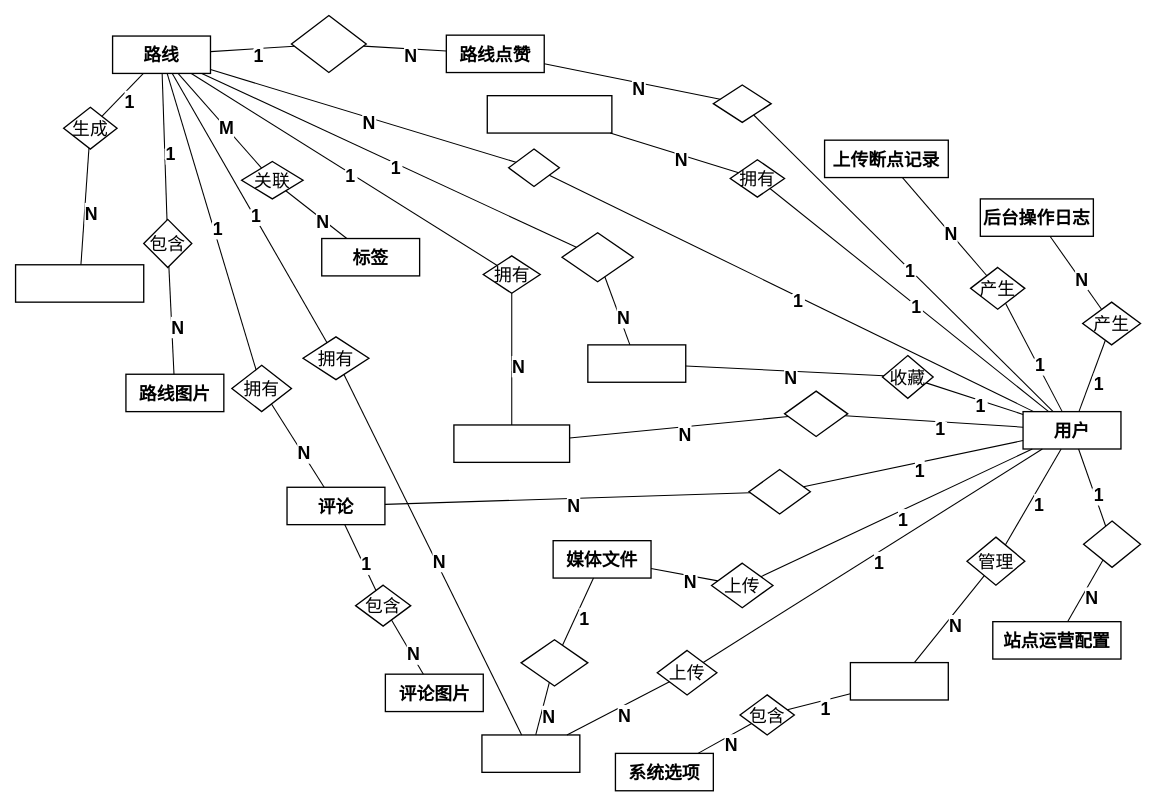
The diagram is 1157 pixels wide and 807 high, and some of its shapes have lost their labels. The shapes that lost their labels are listed below. From the top down, each one's box as (x1, y1, x2, y2) in pixels, then its label:
(290, 15, 367, 73): 被点赞
(486, 95, 612, 133): 用户徒步画像
(712, 84, 771, 123): 点赞
(508, 148, 560, 187): 发布
(561, 232, 634, 282): 被收藏
(15, 264, 144, 302): 景观特征快照
(587, 344, 686, 383): 路线收藏
(783, 390, 848, 437): 标注
(453, 424, 570, 463): 景观观测标签
(748, 468, 811, 514): 发表
(1083, 520, 1141, 568): 维护
(520, 639, 588, 686): 对应
(849, 662, 949, 700): 系统选项组
(481, 734, 580, 773): 路线轨迹
